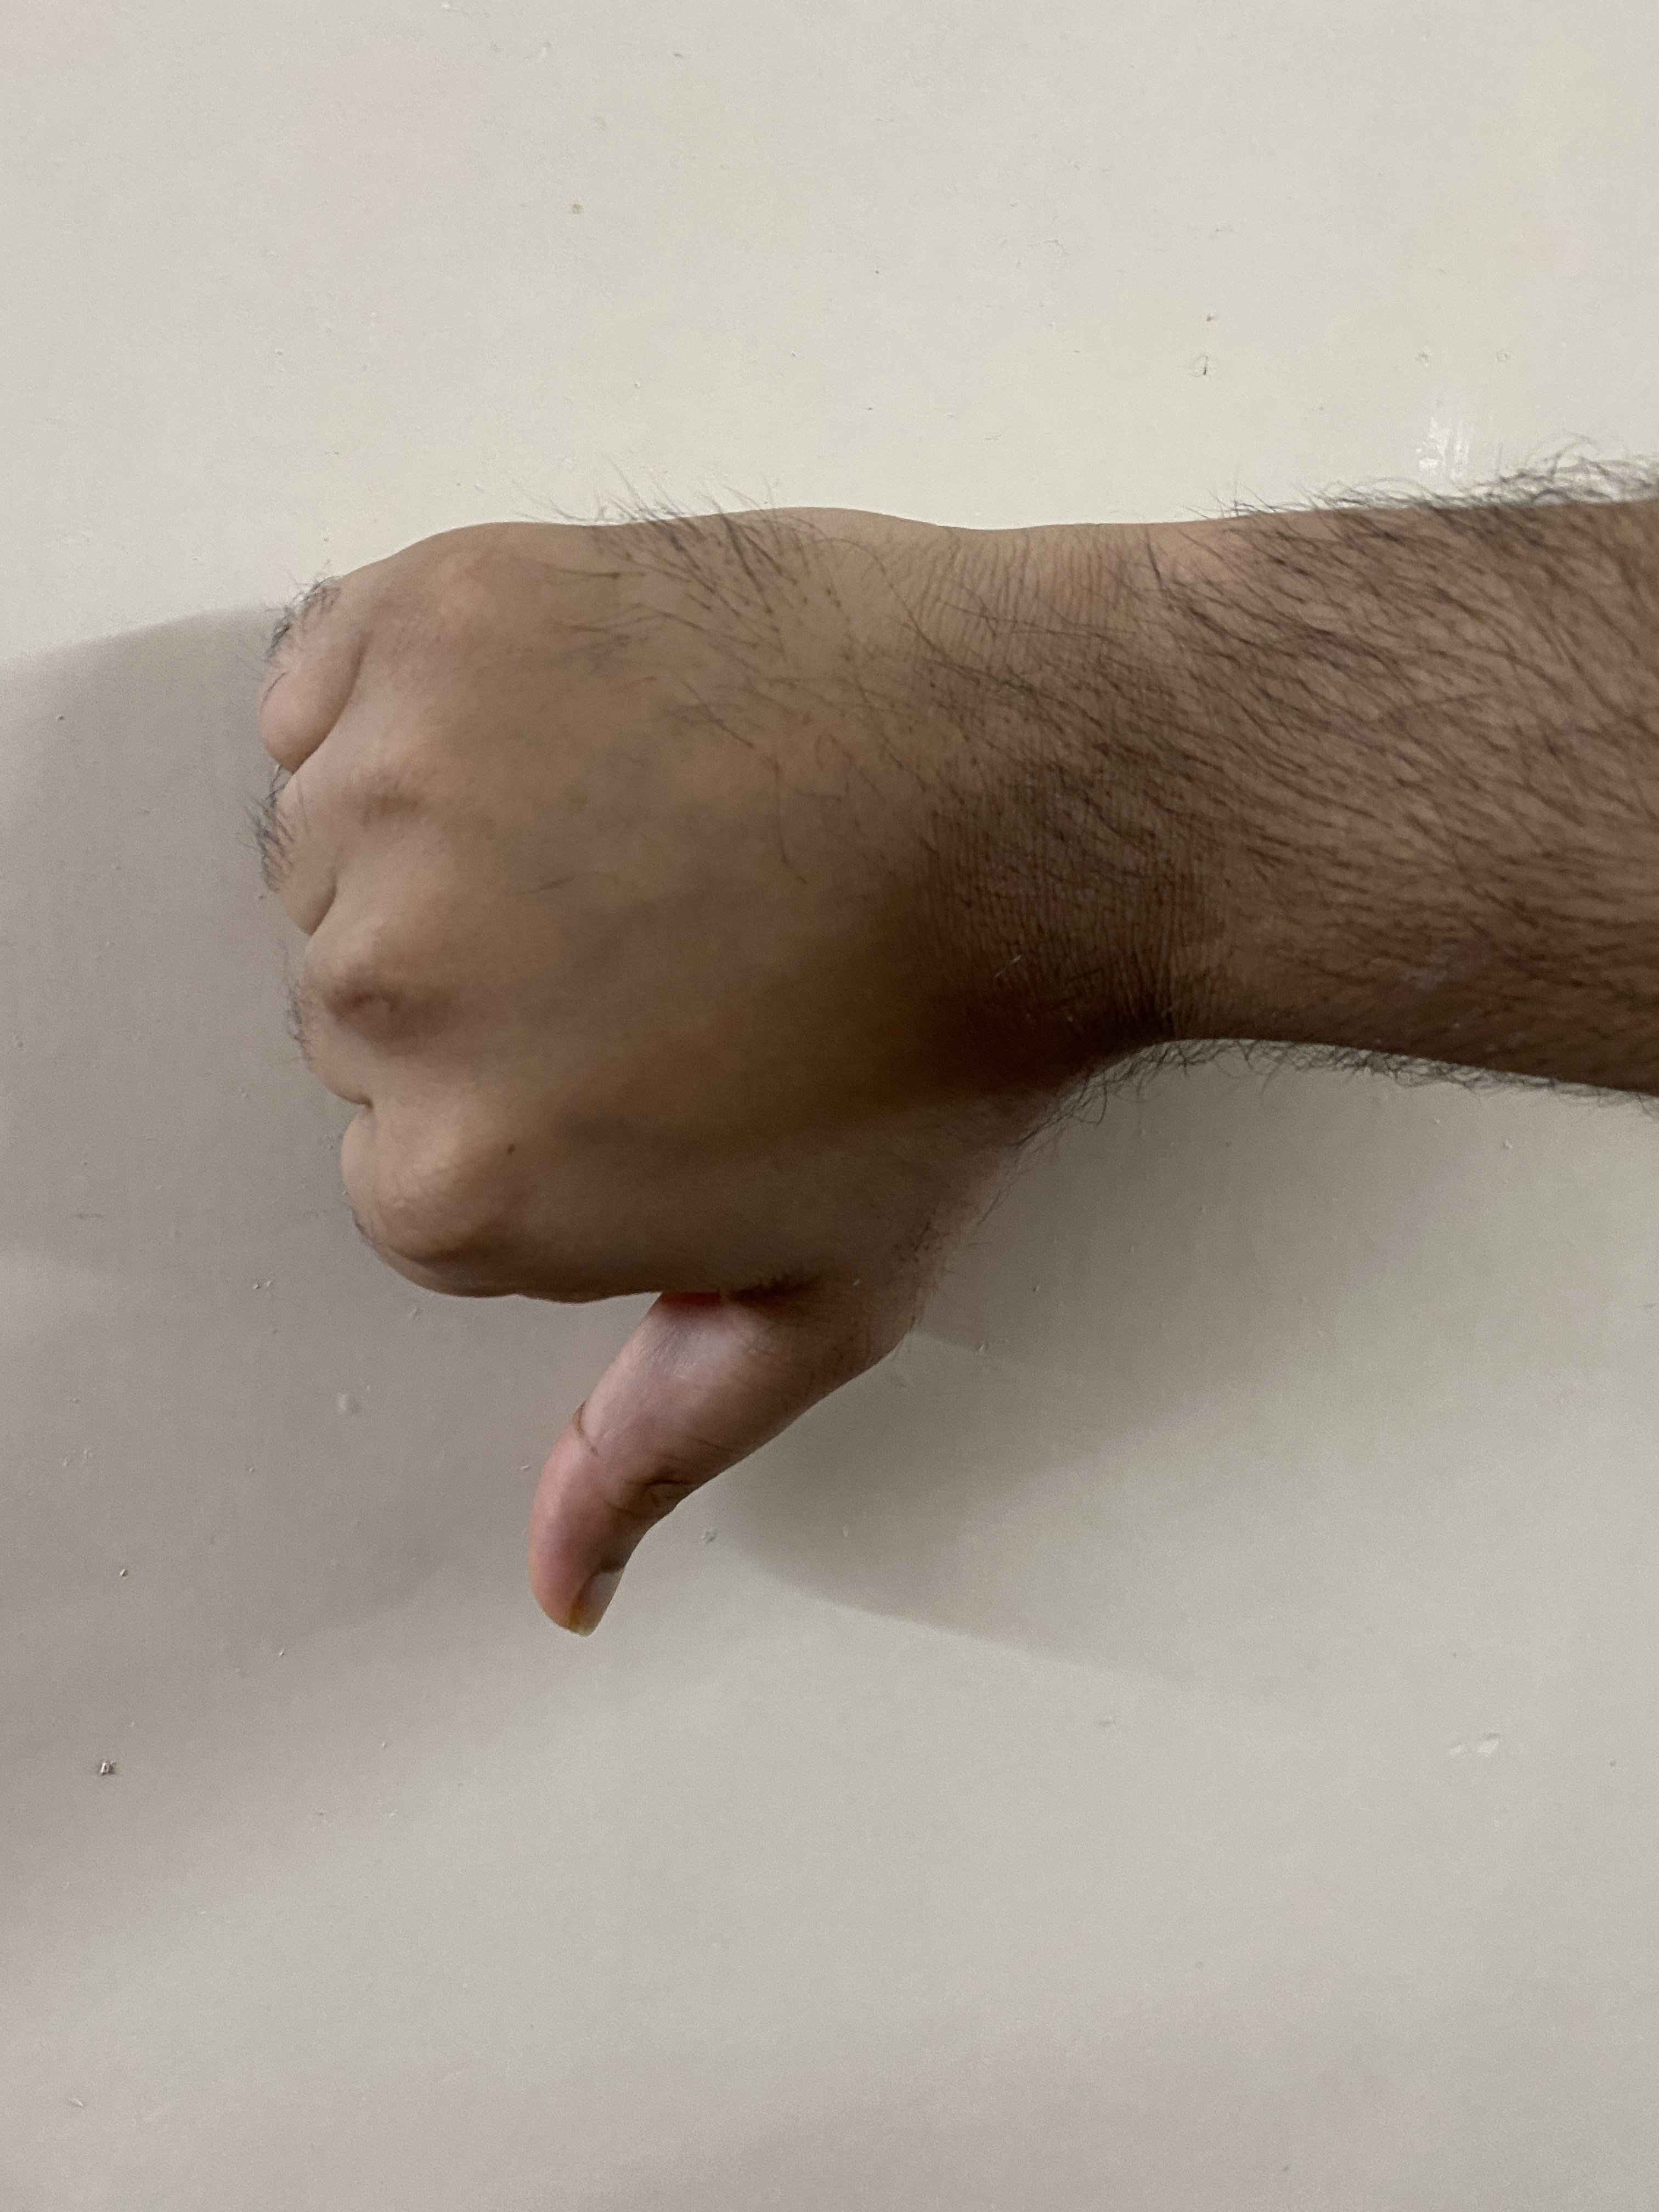down: (200, 415, 1659, 1660)
